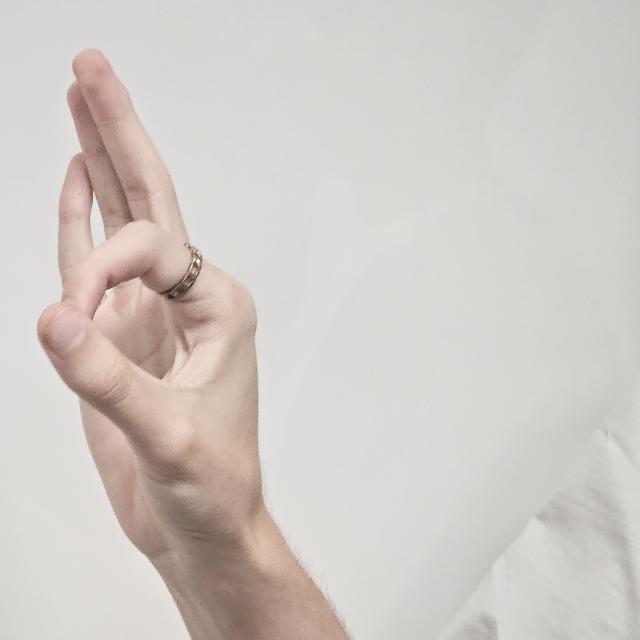Bolinha: (33, 46, 304, 576)
